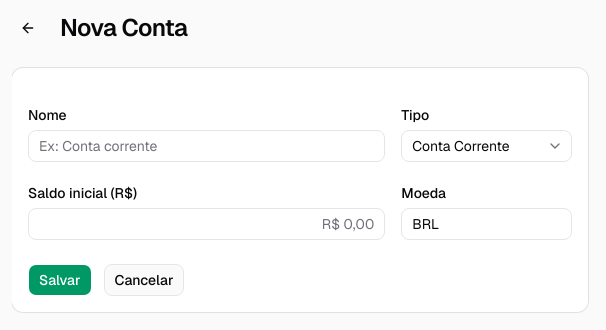
Test: NovaConta › exibe INVESTIMENTO e OUTRO no select de tipo
Click the dropdown.
click(487, 146)  # box [401, 130, 572, 162]
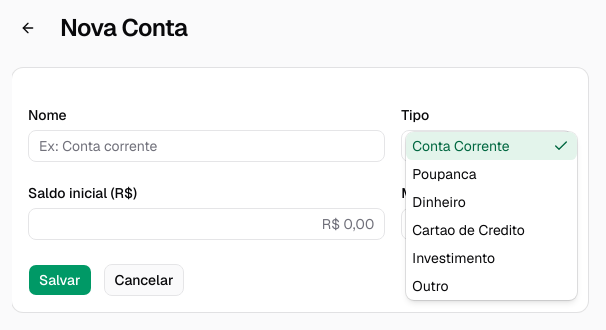
expect the text "Investimento" is shown: met, box [412, 249, 495, 267]
expect the text "Outro" is shown: met, box [412, 277, 449, 295]
